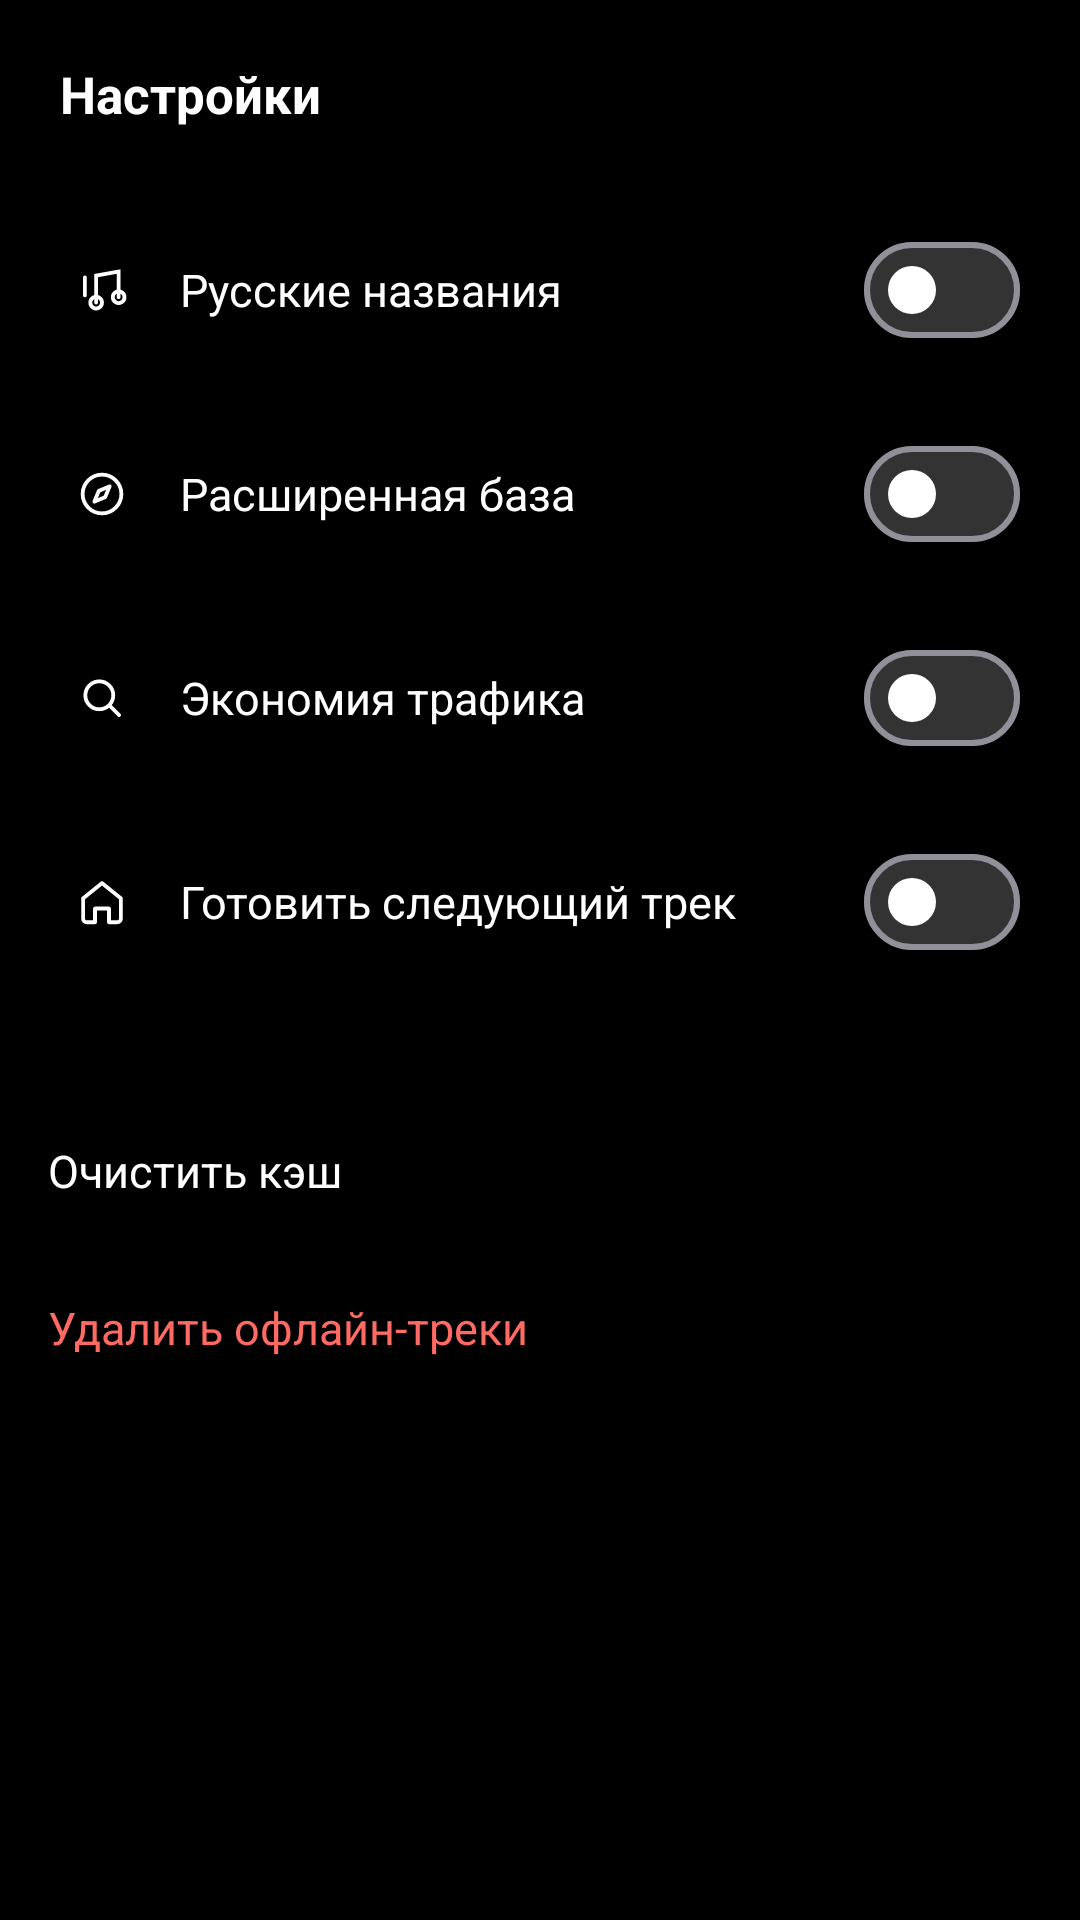

Where icons sit on this 1080x1920 app screen, as (x1, y1, x2, y2):
browse: (80, 472, 124, 516)
home: (81, 881, 123, 925)
library: (83, 269, 127, 311)
search: (83, 679, 121, 717)
